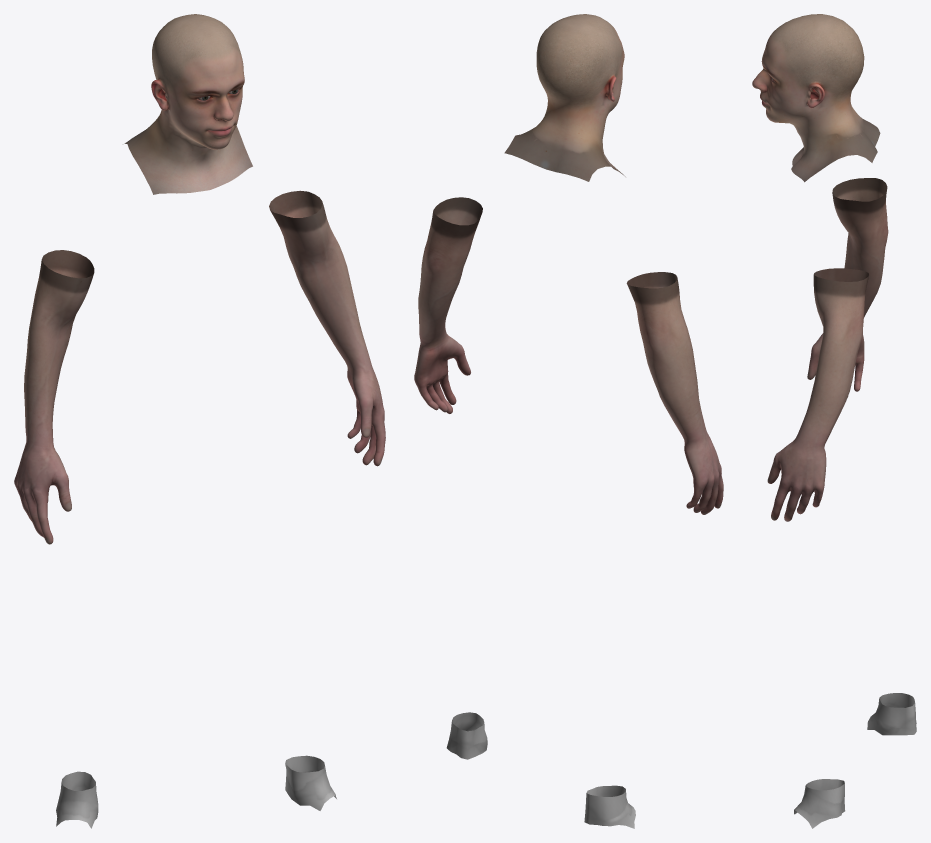
File: body.pytorch3d_safe.obj
The picture shows the model from 3 angles, left to right: view 1: azimuth 30°, elevation 25°; view 2: azimuth 150°, elevation 25°; view 3: azimuth 270°, elevation 25°; orthographic projection. The views are drawn at different scales.
Visible parts, largest first — view 1: Ch01_Body; view 2: Ch01_Body; view 3: Ch01_Body.
Boxes of the visible parts, x1=… form: Ch01_Body: x1=14, y1=14, x2=385, y2=828; Ch01_Body: x1=414, y1=14, x2=723, y2=828; Ch01_Body: x1=752, y1=14, x2=916, y2=828.
Bounding box in the file's own units: 0.7269 × 1.67 × 0.3326.
1 material, 1 textured.
